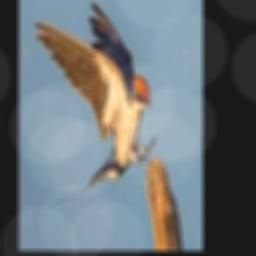Swallow: (31, 2, 156, 204)
